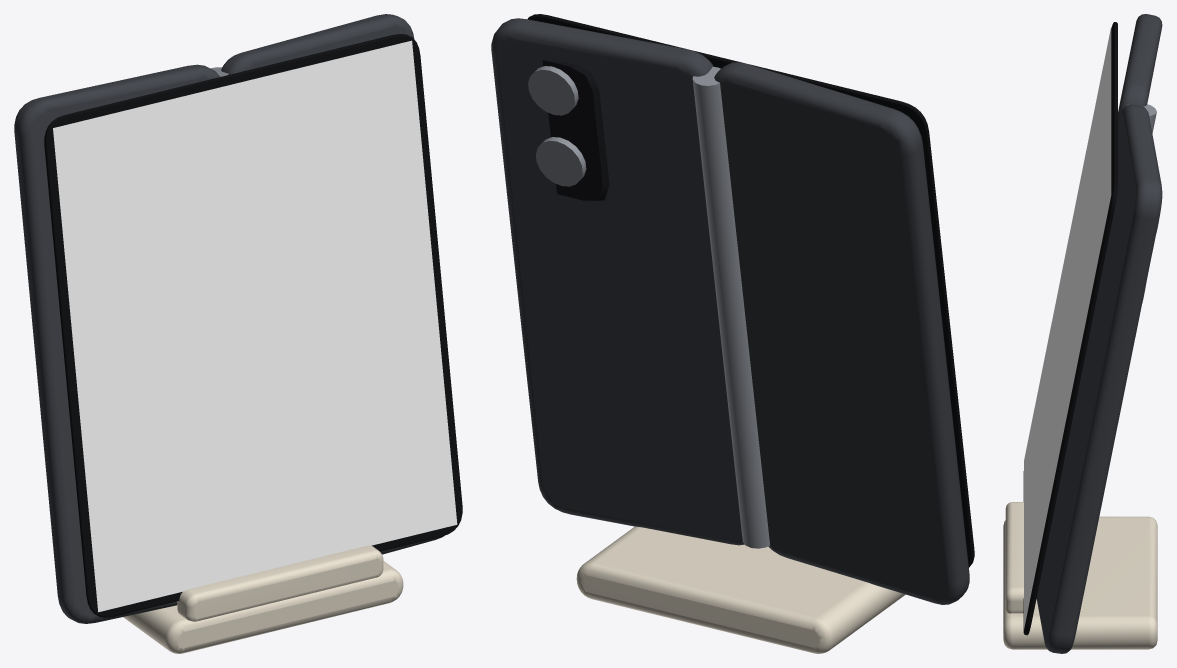
The model's file is foldphone.glb.
The picture shows the model from 3 angles, left to right: view 1: azimuth 30°, elevation 25°; view 2: azimuth 150°, elevation 25°; view 3: azimuth 270°, elevation 25°; orthographic projection. The views are drawn at different scales.
Parts seen in each view (by area): view 1: Screen, Frame, Stand, Bezel; view 2: Frame, Stand, Hinge, Bezel, Cam, LensRing; view 3: Frame, Screen, Stand, Bezel.
Part boxes in pixels (bbox=[...]): Screen: bbox=[53, 40, 457, 612]; Frame: bbox=[14, 14, 444, 623]; Stand: bbox=[123, 545, 403, 653]; Bezel: bbox=[44, 34, 462, 617]; Frame: bbox=[491, 18, 969, 604]; Stand: bbox=[576, 526, 905, 653]; Hinge: bbox=[692, 67, 769, 548]; Bezel: bbox=[527, 14, 974, 567]; Cam: bbox=[542, 60, 609, 201]; LensRing: bbox=[528, 66, 586, 186]; Frame: bbox=[1036, 14, 1162, 653]; Screen: bbox=[1024, 27, 1111, 628]; Stand: bbox=[1003, 502, 1157, 649]; Bezel: bbox=[1023, 22, 1117, 635].
Size of the model in its own units: 0.1997 by 0.2523 by 0.0722.
